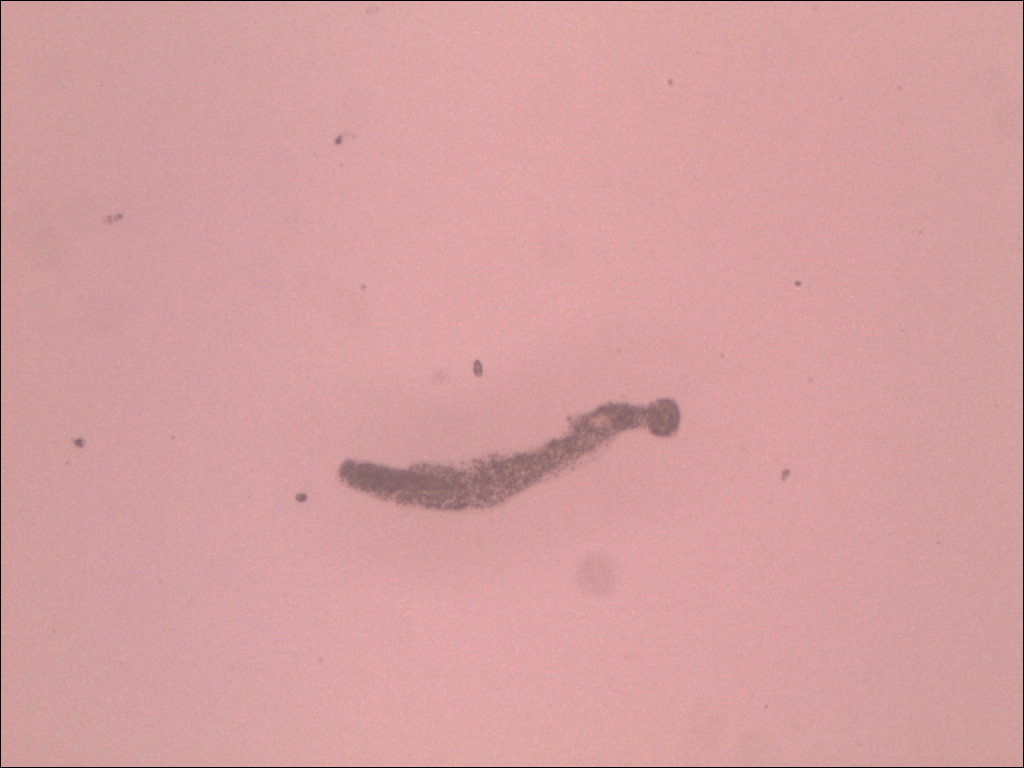amoeba: (331, 393, 691, 519)
